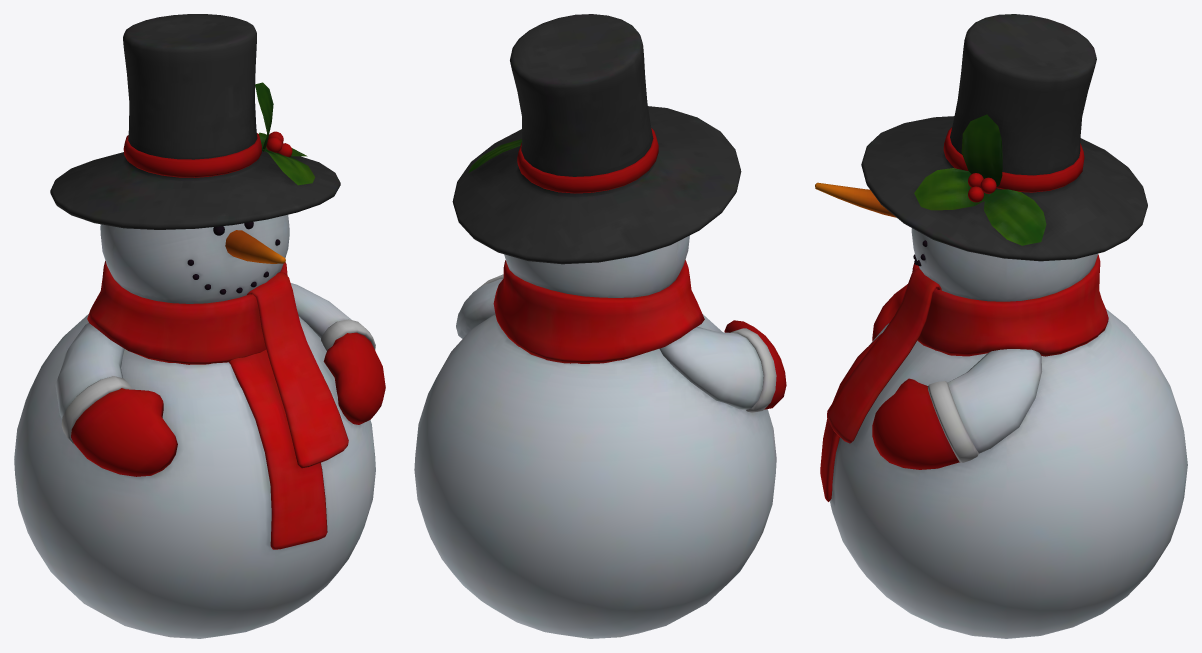
The model's file is snowman-c.glb.
The picture shows the model from 3 angles, left to right: view 1: azimuth 30°, elevation 25°; view 2: azimuth 150°, elevation 25°; view 3: azimuth 270°, elevation 25°; orthographic projection.
Parts seen in each view (by area): view 1: snowman; view 2: snowman; view 3: snowman.
Part boxes in pixels (left/top/right/bottom): snowman: left=14, top=14, right=385, bottom=638; snowman: left=414, top=14, right=786, bottom=638; snowman: left=815, top=14, right=1187, bottom=638.
Bounding box in the file's own units: 1.64 × 2.94 × 1.69.
Materials: 1 (1 with a texture image).
